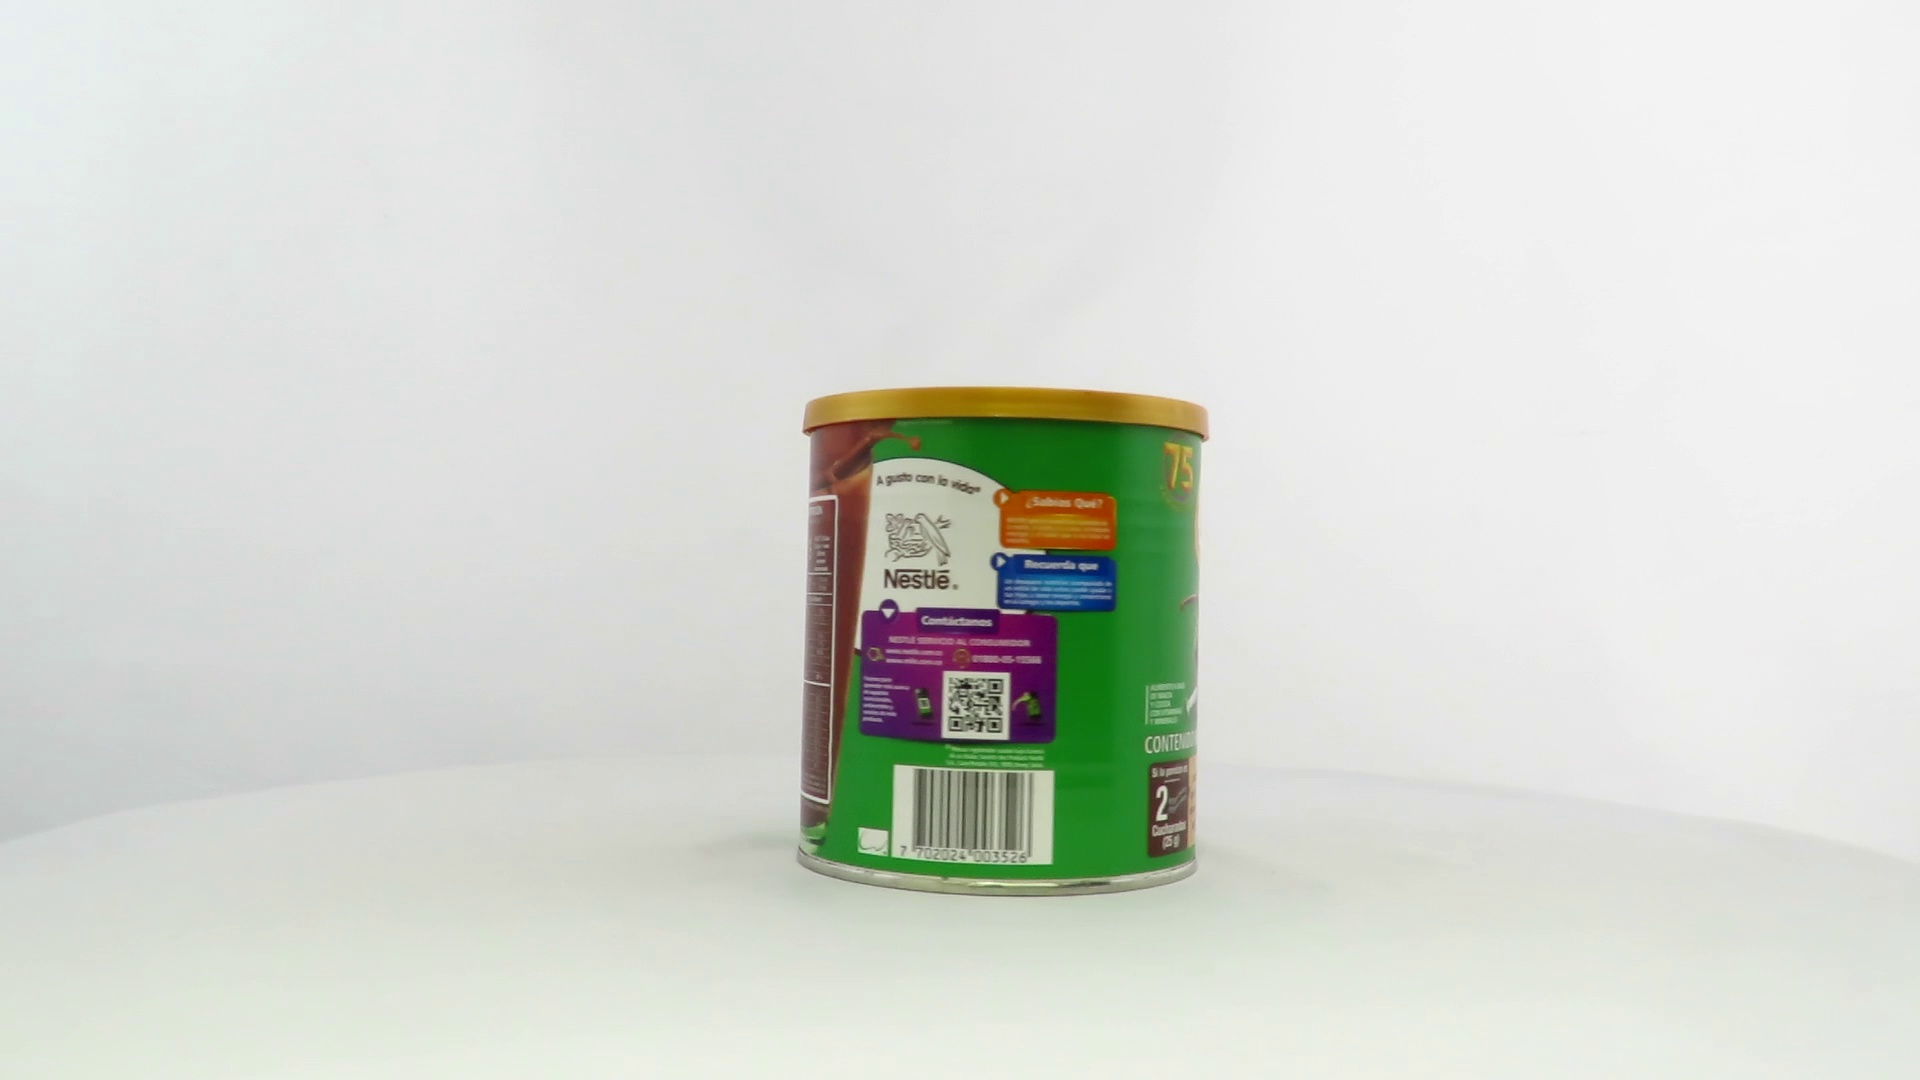COL0170203LAT40000: (791, 381, 1216, 903)
